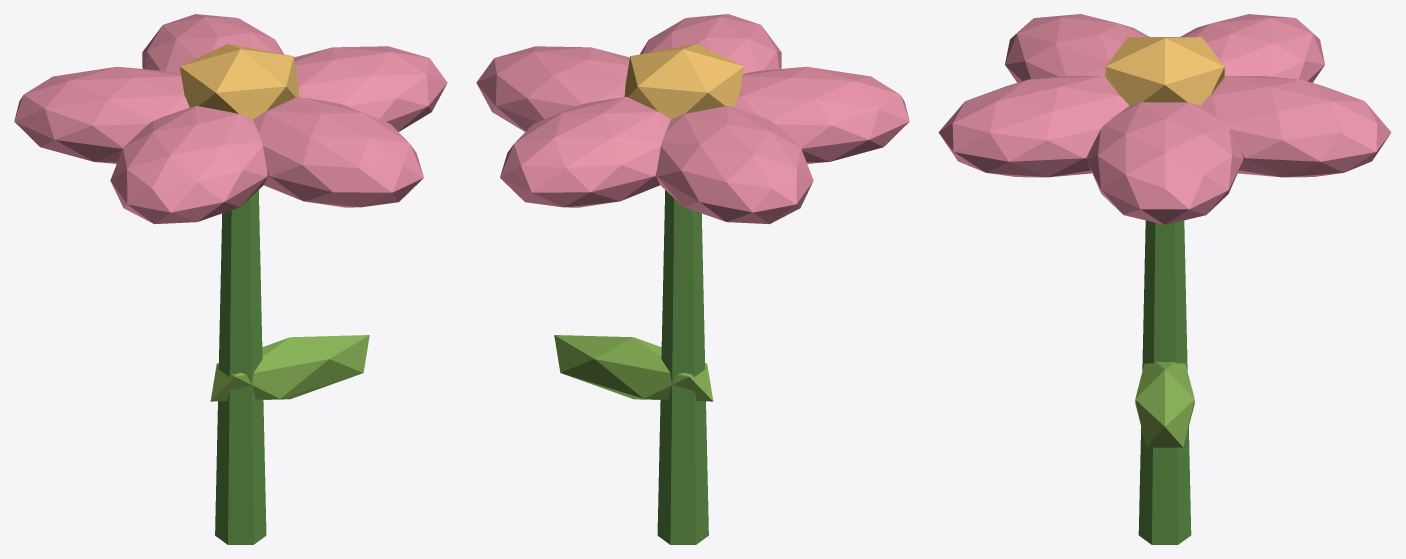
File: path_edge_flower_small_01.glb
3 renders of one model, left to right at view 1: azimuth 30°, elevation 25°; view 2: azimuth 150°, elevation 25°; view 3: azimuth 270°, elevation 25°, orthographic. The views are drawn at different scales.
Parts seen in each view (by area): view 1: path_edge_flower_small_01; view 2: path_edge_flower_small_01; view 3: path_edge_flower_small_01.
Boxes of the visible parts, bbox=[...] form: path_edge_flower_small_01: bbox=[14, 14, 447, 544]; path_edge_flower_small_01: bbox=[476, 14, 909, 544]; path_edge_flower_small_01: bbox=[938, 14, 1391, 544].
Bounding box in the file's own units: 0.1181 × 0.1504 × 0.1242.
